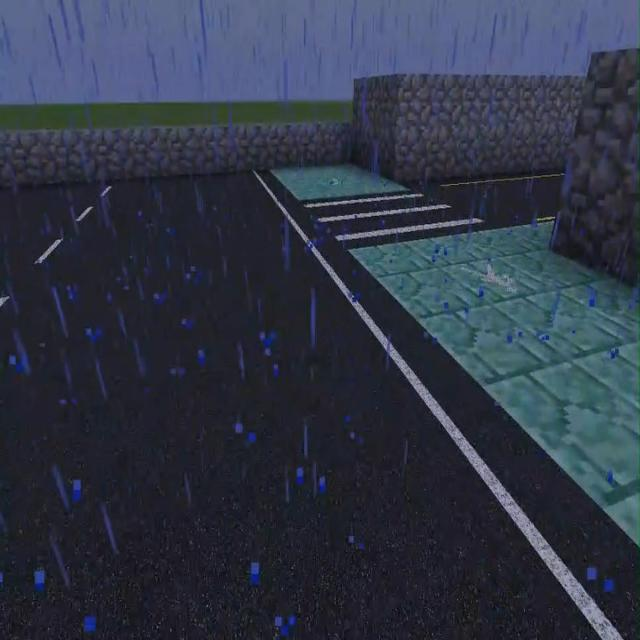8: (303, 193, 486, 246)
crosswalk: (0, 172, 639, 639), (417, 170, 564, 226)
road: (350, 221, 639, 549), (273, 162, 410, 200)
